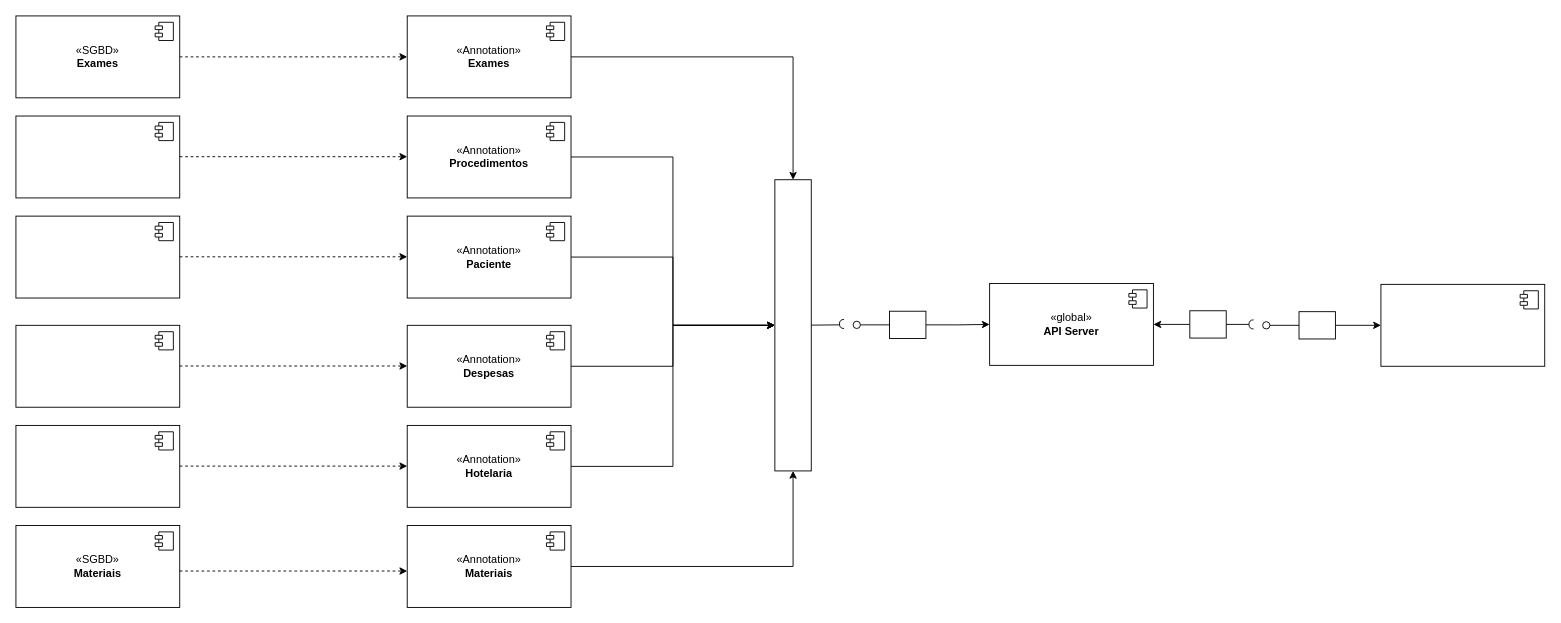
Image size: 1561x623. Some labels were removed from this diagram. The centre of each missing label's shape, as x and y in pixels:
WEB Server: pixel 1462 324
«SGBD» Despesas: pixel 97 365
«SGBD» Hotelaria: pixel 97 466
«SGBD» Paciente: pixel 97 256
«SGBD» Procedimentos: pixel 97 156
